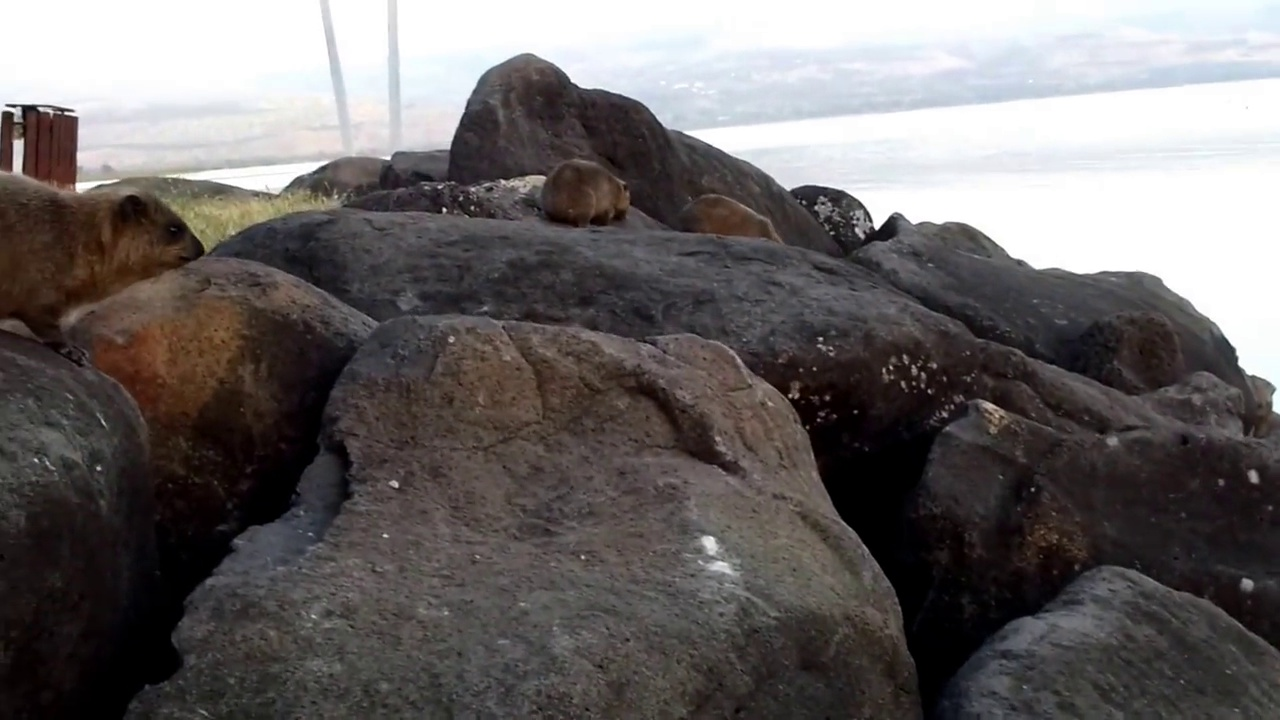Rock Hyrex: (536, 153, 631, 233), (678, 191, 792, 248)
